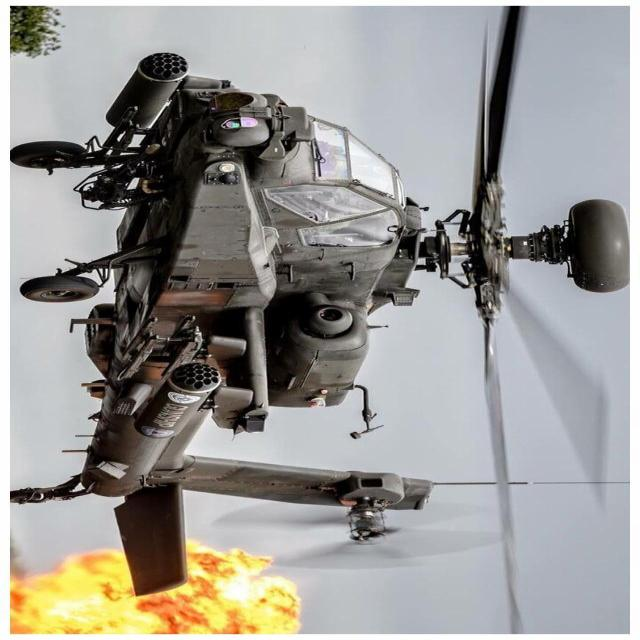MIL_HELO: (14, 22, 640, 594)
